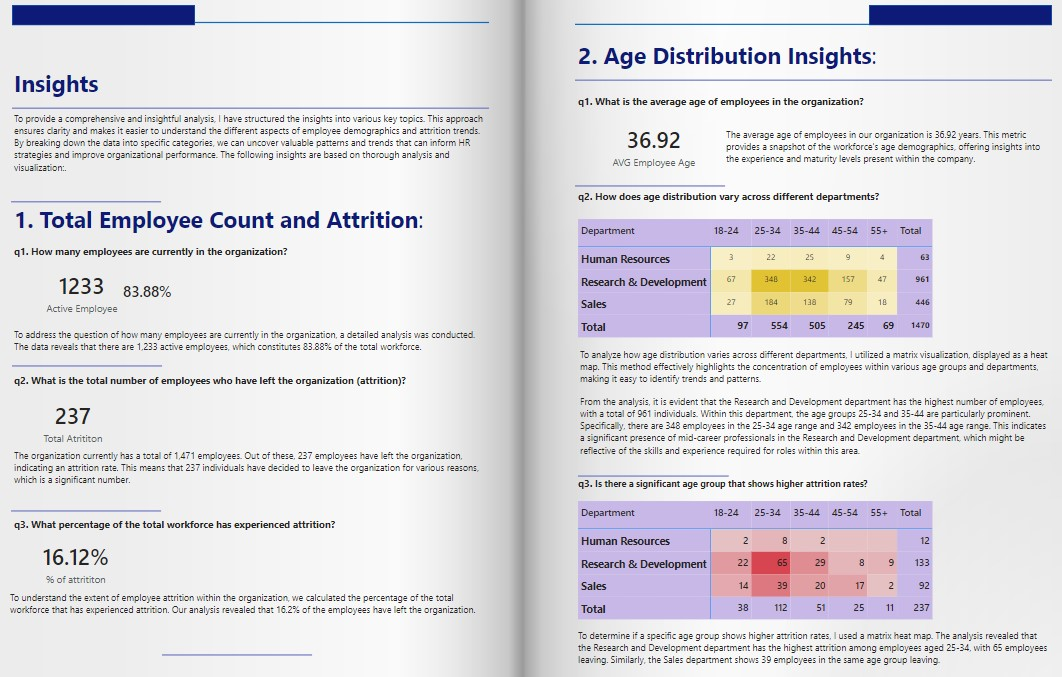

Layout of this report page (visuals, bound fields, positions):
{"tool":"powerbi","page":{"name":"Page 7-8","canvas":[2000,1600],"ordinal":4},"visuals":[{"type":"shape","box":[158.8,207.1,782.4,37.6],"z":0},{"type":"shape","box":[1082.4,209.8,782.4,37.3],"z":1000},{"type":"shape","box":[158.8,196.1,300,33.3],"z":2000},{"type":"shape","box":[1564.7,196.1,300,33.3],"z":3000},{"type":"shape","box":[174.5,1337.3,17.6,76.5],"z":4000},{"type":"textbox","box":[193.3,1356.7,146.7,56.7],"z":5000},{"type":"shape","box":[1743.7,1336.6,16.4,76.1],"z":6000},{"type":"textbox","box":[1760,1356.7,158.3,56.7],"z":7000},{"type":"image","box":[114.9,1347.8,59.7,47.8],"z":8000},{"type":"image","box":[1691.4,1351.6,59.7,47.8],"z":9000},{"type":"textbox","box":[158.9,250,589.3,62.5],"z":10000},{"type":"shape","box":[156.7,301.7,781.7,36.7],"z":11000},{"type":"textbox","box":[158.3,338.3,770,38.3],"z":12000},{"type":"textbox","box":[1082.1,248.2,848.2,64.3],"z":13000},{"type":"shape","box":[1082.2,301.8,781.7,36.7],"z":14000},{"type":"textbox","box":[1082.1,337.5,678.6,39.3],"z":15000},{"type":"shape","box":[1326.2,1278.7,245.9,23],"z":16000},{"type":"textbox","box":[127.8,29.6,633.3,75.9],"z":17000},{"type":"image","box":[9.3,22.2,135.2,92.6],"z":18000},{"type":"textbox","box":[1375,32.1,125,37.5],"z":19000},{"type":"card","fields":{"Values":["Measure.time"]},"box":[1468.5,25.9,342.6,42.6],"z":20000},{"type":"card","fields":{"Values":["Measure.time2"]},"box":[1775.9,25.9,153.7,42.6],"z":21000},{"type":"shape","box":[417.9,1123.2,246.4,14.3],"z":22000},{"type":"shape","box":[158.9,914.3,246.4,14.3],"z":23000},{"type":"textbox","box":[1475.7,394.3,390,107.1],"z":24000},{"type":"textbox","box":[1081.4,546.7,572.1,36.1],"z":25000},{"type":"textbox","box":[1082,965.6,678.7,39.3],"z":26000},{"type":"textbox","box":[1627.9,985.2,237.7,304.9],"z":27000},{"type":"shape","box":[1086.7,961.7,246.7,13.3],"z":28000},{"type":"clusteredBarChart","fields":{"Y":["Measure.Total Employee"],"Category":["HR-Employee-Attrition.MaritalStatus"]},"box":[166.1,371.4,405.4,178.6],"z":29000},{"type":"textbox","box":[625,362.5,233.9,205.4],"z":30000},{"type":"textbox","box":[156.7,576.7,770,46.7],"z":31000},{"type":"shape","box":[160,568.3,245,13.3],"z":32000},{"type":"textbox","box":[157.1,919.9,646.4,46.4],"z":33000},{"type":"textbox","box":[157.1,798.2,771.4,96.4],"z":34000},{"type":"shape","box":[1081.1,539.8,246.7,13.3],"z":35000},{"type":"clusteredColumnChart","title":"Total Attrition by Avg Years at company","fields":{"Y":["Measure.Total Atrititon"],"Category":["HR-Employee-Attrition.Years Group"]},"box":[1104.9,1001.6,509.8,236.1],"z":36000},{"type":"image","box":[26.8,1485.7,89.3,92.9],"z":37000},{"type":"textbox","box":[112.5,1512.5,314.3,39.3],"z":38000},{"type":"clusteredBarChart","title":"Total Attrition by Marital Status","fields":{"Category":["HR-Employee-Attrition.MaritalStatus"],"Y":["Measure.Total Atrititon"]},"box":[166.1,623.2,405.4,178.6],"z":39000},{"type":"textbox","box":[160.7,975,771.4,166.1],"z":40000},{"type":"card","fields":{"Values":["Avg(HR-Employee-Attrition.YearsAtCompany)"]},"box":[1105.4,392.9,210.7,110.7],"z":41000},{"type":"clusteredBarChart","fields":{"Category":["HR-Employee-Attrition.JobRole"],"Y":["Avg(HR-Employee-Attrition.YearsAtCompany)"]},"box":[1082,582,424.6,332.8],"z":42000},{"type":"clusteredColumnChart","fields":{"Category":["HR-Employee-Attrition.Department"],"Y":["Avg(HR-Employee-Attrition.YearsAtCompany)"]},"box":[1468.9,582,318,332.8],"z":43000},{"type":"pageNavigator","box":[634.4,1501.6,1295.1,50.8],"z":43001}]}

Visuals, with their boxes on the page's 2000x1600 design canvas (x1, y1, x2, y2). These are canvas units, not pixel positions in the 1062x677 screenshot, which may show the page scaled, cropped or inside an application window:
shape: rect(159, 207, 941, 245)
shape: rect(1082, 210, 1865, 247)
shape: rect(159, 196, 459, 229)
shape: rect(1565, 196, 1865, 229)
shape: rect(174, 1337, 192, 1414)
textbox: rect(193, 1357, 340, 1413)
shape: rect(1744, 1337, 1760, 1413)
textbox: rect(1760, 1357, 1918, 1413)
image: rect(115, 1348, 175, 1396)
image: rect(1691, 1352, 1751, 1399)
textbox: rect(159, 250, 748, 312)
shape: rect(157, 302, 938, 338)
textbox: rect(158, 338, 928, 377)
textbox: rect(1082, 248, 1930, 312)
shape: rect(1082, 302, 1864, 338)
textbox: rect(1082, 338, 1761, 377)
shape: rect(1326, 1279, 1572, 1302)
textbox: rect(128, 30, 761, 106)
image: rect(9, 22, 144, 115)
textbox: rect(1375, 32, 1500, 70)
card - Measure.time: rect(1468, 26, 1811, 68)
card - Measure.time2: rect(1776, 26, 1930, 68)
shape: rect(418, 1123, 664, 1138)
shape: rect(159, 914, 405, 929)
textbox: rect(1476, 394, 1866, 501)
textbox: rect(1081, 547, 1654, 583)
textbox: rect(1082, 966, 1761, 1005)
textbox: rect(1628, 985, 1866, 1290)
shape: rect(1087, 962, 1333, 975)
clusteredBarChart - Measure.Total Employee x HR-Employee-Attrition.MaritalStatus: rect(166, 371, 572, 550)
textbox: rect(625, 362, 859, 568)
textbox: rect(157, 577, 927, 623)
shape: rect(160, 568, 405, 582)
textbox: rect(157, 920, 804, 966)
textbox: rect(157, 798, 928, 895)
shape: rect(1081, 540, 1328, 553)
"Total Attrition by Avg Years at company" clusteredColumnChart: rect(1105, 1002, 1615, 1238)
image: rect(27, 1486, 116, 1579)
textbox: rect(112, 1512, 427, 1552)
"Total Attrition by Marital Status" clusteredBarChart: rect(166, 623, 572, 802)
textbox: rect(161, 975, 932, 1141)
card - Avg(HR-Employee-Attrition.YearsAtCompany): rect(1105, 393, 1316, 504)
clusteredBarChart - HR-Employee-Attrition.JobRole x Avg(HR-Employee-Attrition.YearsAtCompany): rect(1082, 582, 1507, 915)
clusteredColumnChart - HR-Employee-Attrition.Department x Avg(HR-Employee-Attrition.YearsAtCompany): rect(1469, 582, 1787, 915)
pageNavigator: rect(634, 1502, 1930, 1552)
